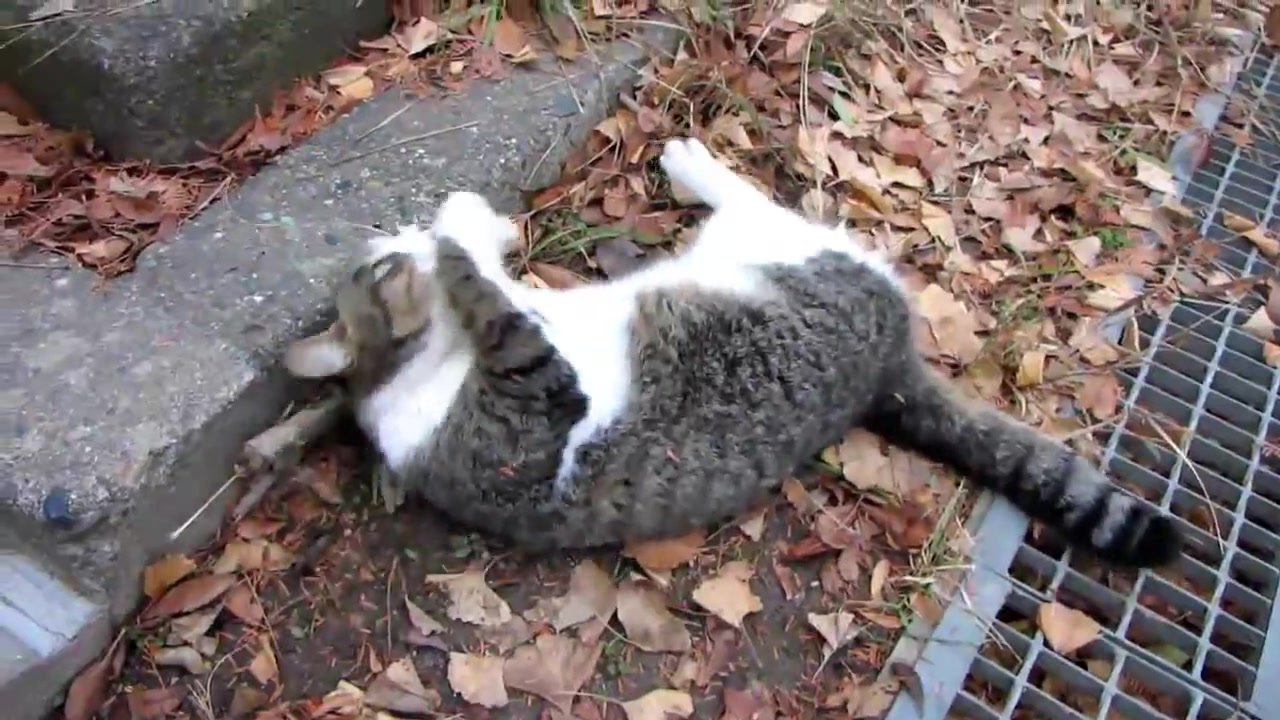cat: (293, 131, 1191, 576)
